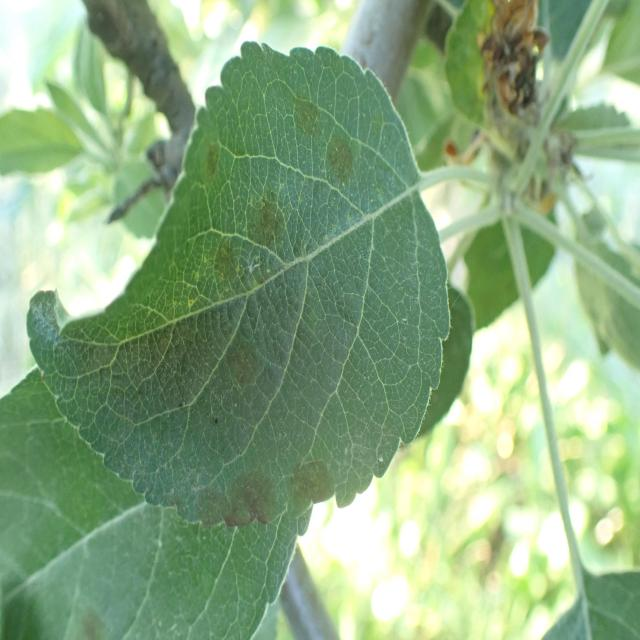scab: (95, 102, 392, 559)
